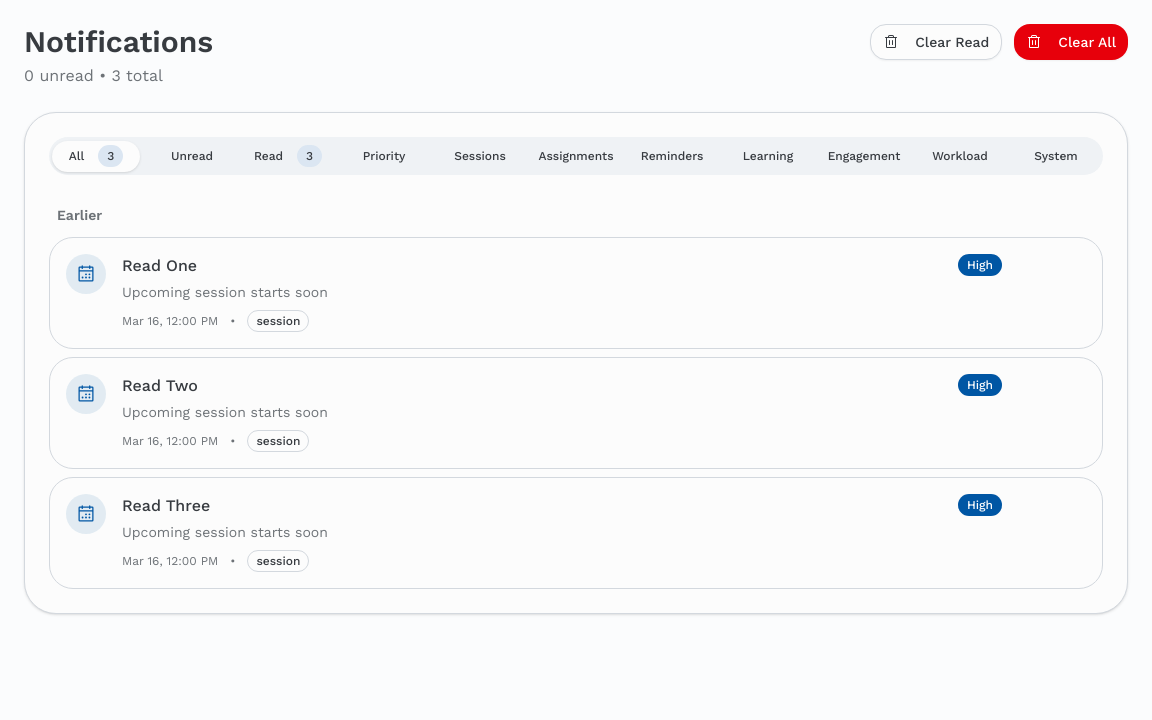
Scenario: Notifications › handles all read notifications
Expected: the text "0 unread • 3 total" is shown, [24,66,163,85]
Expected: the tab "Read 3" is shown, [244,140,332,172]
Click the tab "Unread": (192, 156) [148,140,236,172]
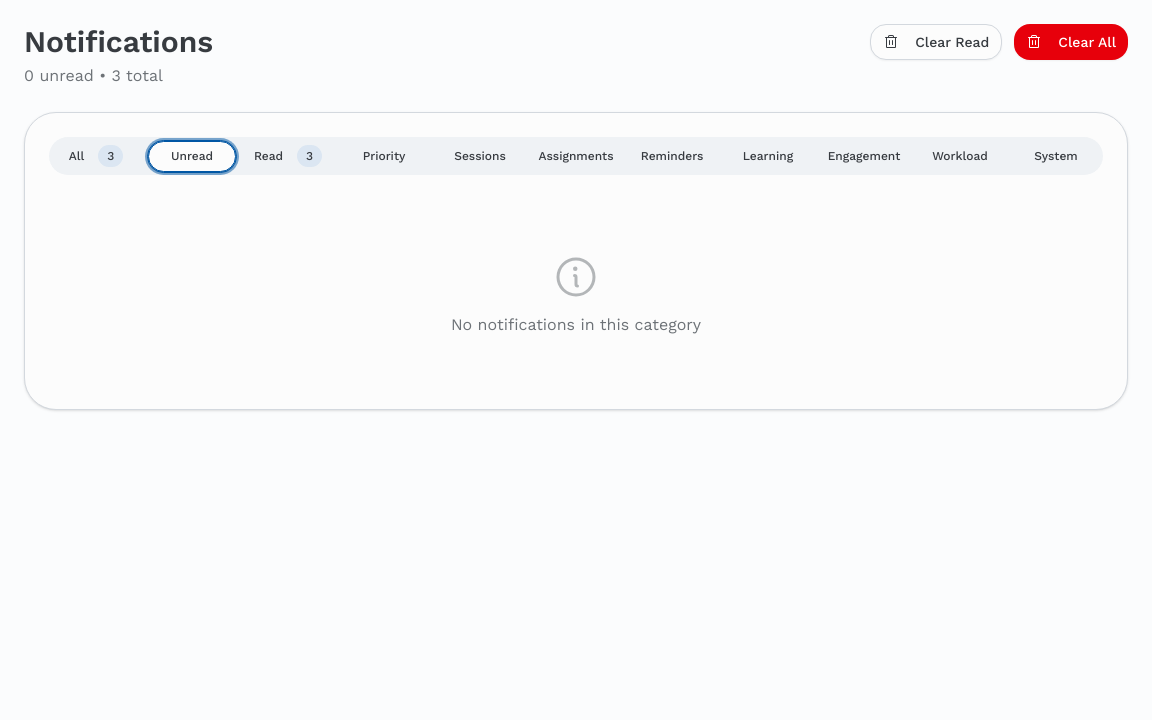
Expected: the text "No notifications in this category" is shown, [451,315,701,334]
